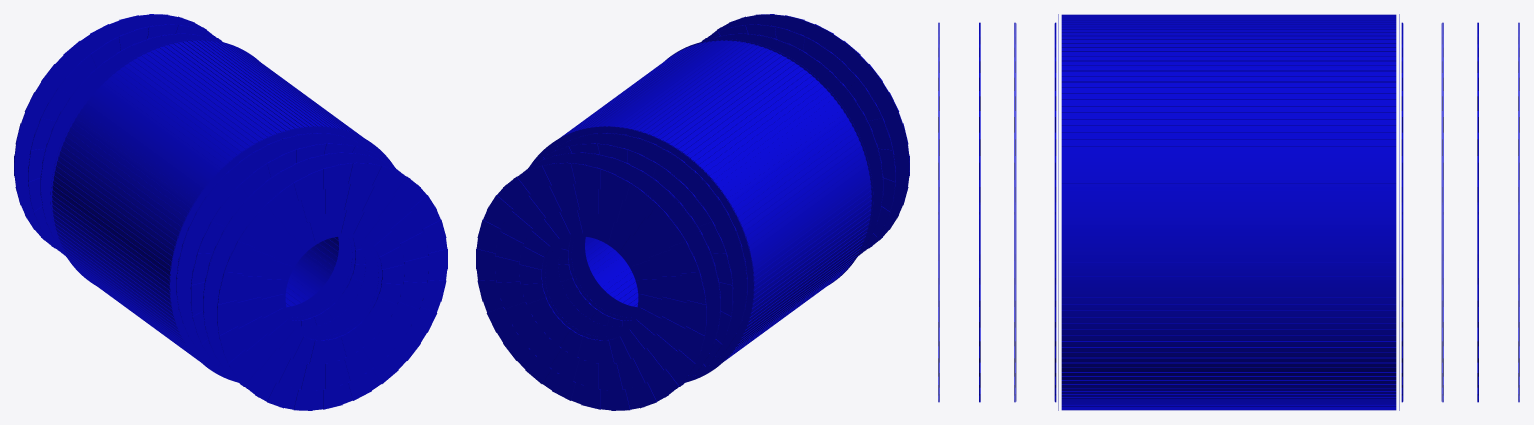
File: OuterTrackers.gltf
3 renders of one model, left to right at view 1: azimuth 30°, elevation 25°; view 2: azimuth 150°, elevation 25°; view 3: azimuth 270°, elevation 25°, orthographic. The views are drawn at different scales.
Visible parts, largest first — view 1: OuterTrackers; view 2: OuterTrackers; view 3: OuterTrackers.
Boxes of the visible parts, x1=… form: OuterTrackers: x1=14, y1=14, x2=447, y2=410; OuterTrackers: x1=476, y1=14, x2=909, y2=410; OuterTrackers: x1=938, y1=14, x2=1519, y2=410.
Size of the model in its own units: 2999 by 2999 by 4391.
